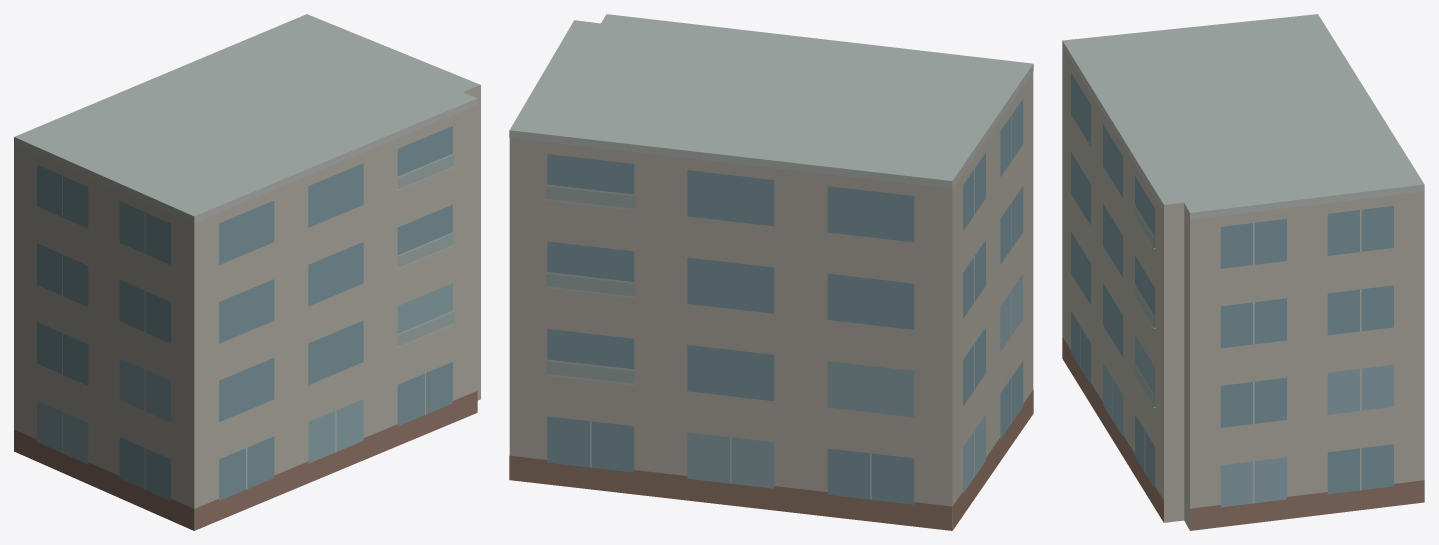
File: survey-upis-32695251.glb
3 views of the same model, side by side, from view 1: azimuth 30°, elevation 25°; view 2: azimuth 150°, elevation 25°; view 3: azimuth 270°, elevation 25° (orthographic). The views are drawn at different scales.
Parts seen in each view (by area): view 1: survey-upis-32695251.tmp; view 2: survey-upis-32695251.tmp; view 3: survey-upis-32695251.tmp.
Part boxes in pixels (x1=…): survey-upis-32695251.tmp: x1=14, y1=14, x2=480, y2=530; survey-upis-32695251.tmp: x1=509, y1=14, x2=1033, y2=530; survey-upis-32695251.tmp: x1=1062, y1=14, x2=1424, y2=530.
Size of the model in its own units: 15.31 by 11.4 by 11.79.
